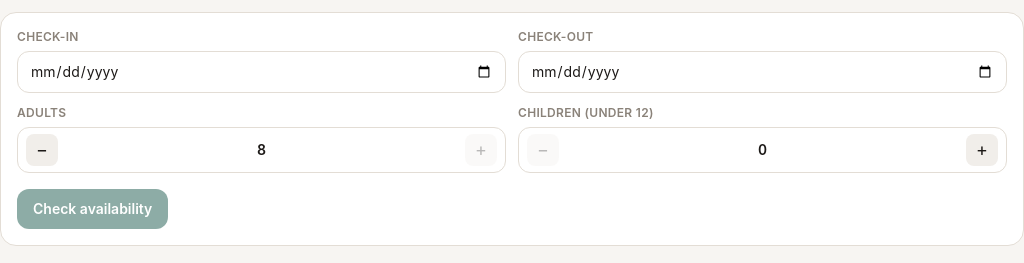
Test case: BookingForm › will not let the party exceed what a single booking allows
Expected: the button named "increase adults" is disabled, x1=465 y1=134 x2=497 y2=166
Click the button named "decrease adults" at (42, 150), box x1=26 y1=134 x2=58 y2=166
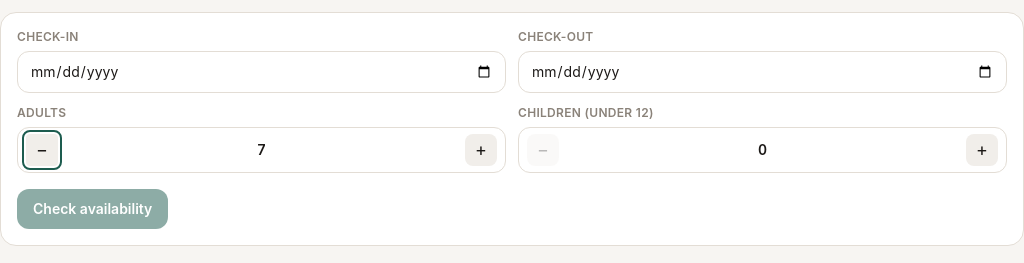
Expected: the button named "increase adults" is enabled, x1=465 y1=134 x2=497 y2=166
